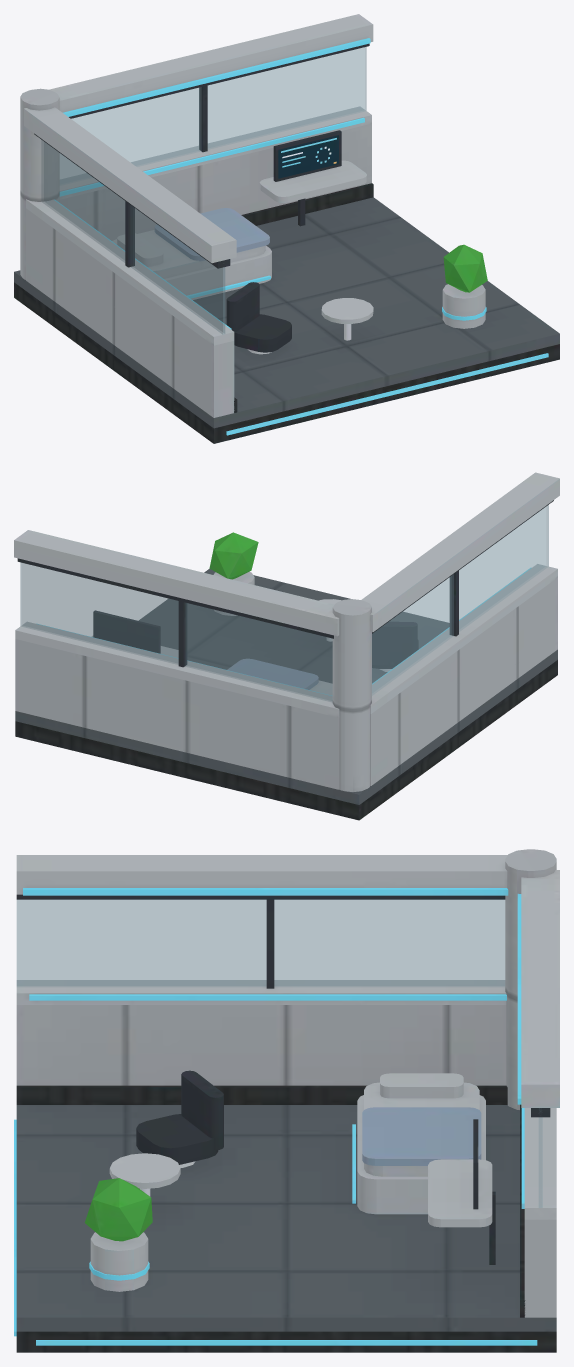
Rendered from enterprise_habitat_t3.glb.
3 views of the same model, one above another, from view 1: azimuth 30°, elevation 25°; view 2: azimuth 150°, elevation 25°; view 3: azimuth 270°, elevation 25° (orthographic). The views are drawn at different scales.
Parts seen in each view (by area): view 1: te_enterprise_habitat_t3; view 2: te_enterprise_habitat_t3; view 3: te_enterprise_habitat_t3.
Boxes of the visible parts, <box> form: te_enterprise_habitat_t3: <box>14,14,559,443</box>; te_enterprise_habitat_t3: <box>14,472,559,820</box>; te_enterprise_habitat_t3: <box>14,849,559,1352</box>.
Bounding box in the file's own units: 0.849 × 0.472 × 0.849.
Materials: 2 (1 with a texture image).
